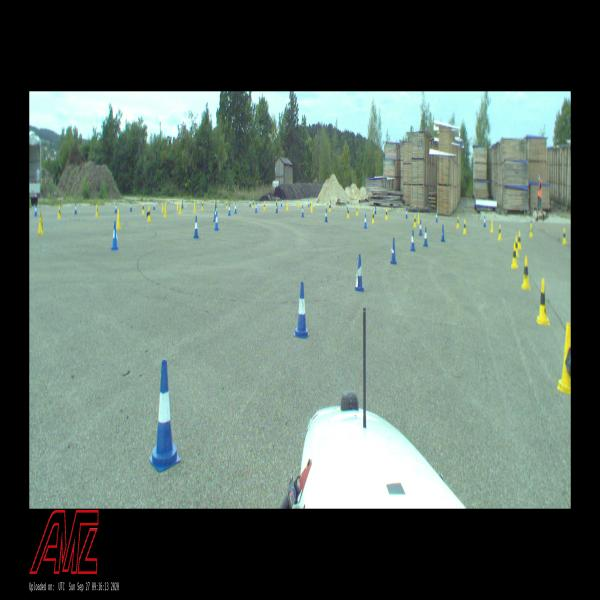blue_cone: (149, 360, 181, 472), (294, 281, 309, 339), (354, 255, 364, 292), (111, 221, 119, 249), (390, 237, 397, 265), (193, 216, 199, 239), (410, 230, 416, 251), (423, 226, 428, 246), (214, 211, 219, 230), (440, 224, 445, 241), (418, 220, 423, 235), (324, 209, 328, 222), (364, 213, 367, 229), (228, 203, 231, 216), (234, 202, 237, 214), (483, 216, 486, 227), (405, 208, 408, 219), (214, 206, 216, 222), (435, 212, 438, 222), (302, 206, 304, 217), (255, 202, 257, 212), (276, 202, 278, 212), (374, 205, 376, 214)
yellow_cone: (558, 321, 570, 396), (536, 278, 550, 325), (522, 256, 530, 289), (511, 243, 518, 268), (37, 212, 44, 236), (116, 210, 121, 230), (515, 235, 519, 257), (562, 228, 567, 244), (518, 230, 522, 249), (498, 224, 502, 240), (147, 206, 151, 222), (490, 219, 494, 232), (57, 205, 61, 218), (529, 224, 533, 236), (463, 219, 466, 234), (178, 204, 182, 214), (456, 215, 459, 228), (164, 204, 167, 217), (95, 204, 98, 217), (372, 211, 375, 223), (417, 212, 420, 224), (385, 208, 388, 219), (286, 201, 289, 211), (201, 200, 204, 210), (414, 215, 416, 227), (142, 202, 144, 214), (176, 202, 179, 210), (347, 207, 349, 218), (311, 202, 313, 213), (356, 205, 358, 216), (194, 202, 196, 213), (162, 202, 164, 213)
